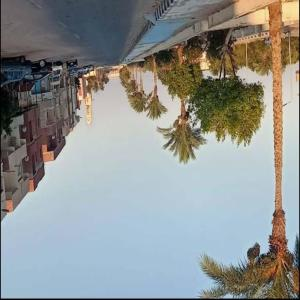palm tree: (196, 1, 300, 298)
